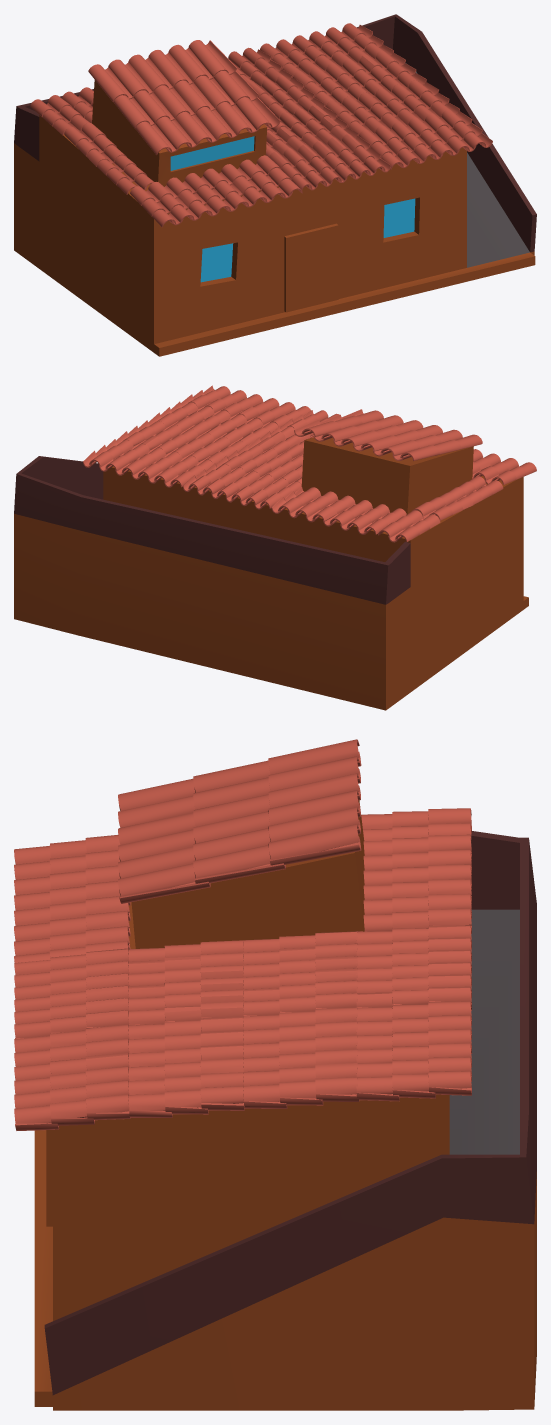
File: ANother Poor House.fbx
The picture shows the model from 3 angles, top to bottom: view 1: azimuth 30°, elevation 25°; view 2: azimuth 150°, elevation 25°; view 3: azimuth 270°, elevation 25°; orthographic projection. The views are drawn at different scales.
Parts seen in each view (by area): view 1: Roof.001; view 2: Roof.001; view 3: Roof.001.
Part boxes in pixels (bbox=[...]): Roof.001: bbox=[14, 14, 536, 356]; Roof.001: bbox=[14, 385, 536, 710]; Roof.001: bbox=[14, 739, 536, 1410].
Bounding box in the file's own units: 1031 × 556 × 704.
